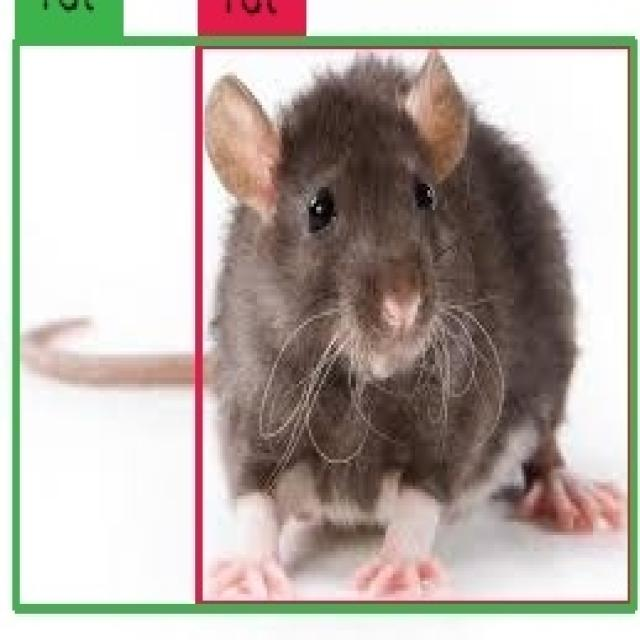rat: (17, 41, 633, 609), (200, 44, 630, 606)
